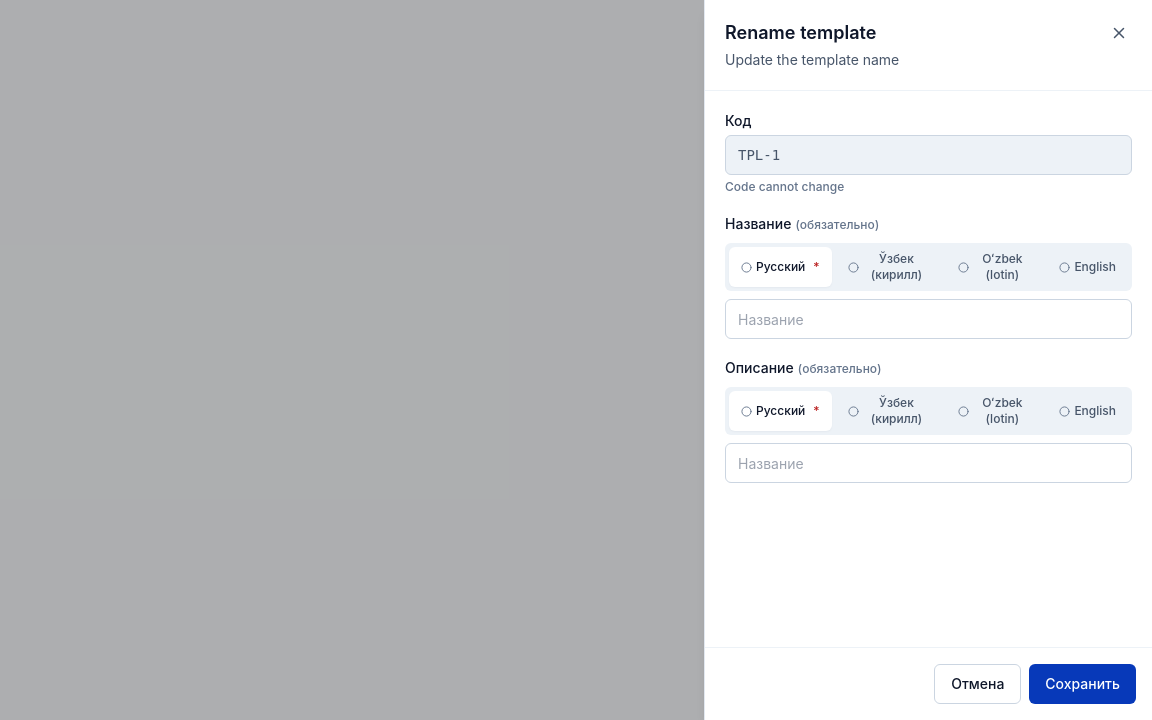
Test: <RenameTemplateDrawer /> (shared) › requires a valid name (per validateName) before submitting
Click the button "Сохранить".
click(1083, 684)  # box [1029,664,1136,704]
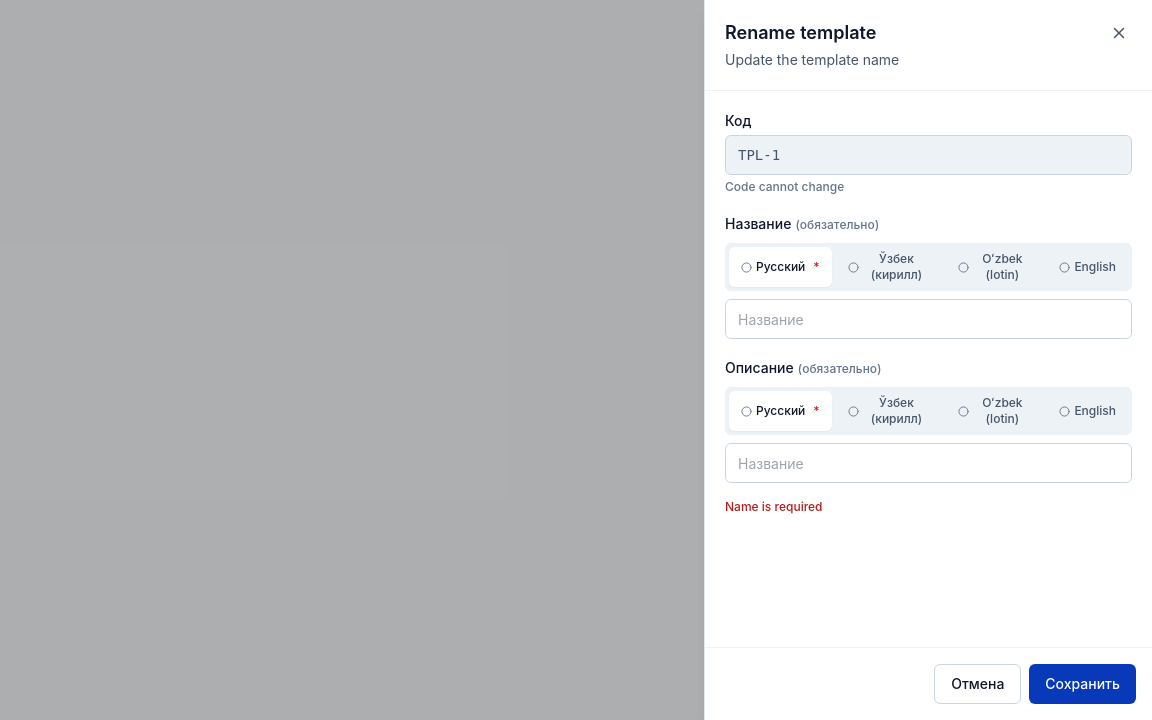
Now the message with test id "fake-rename-template-error" reads "Name is required", box [725,499,822,514]
